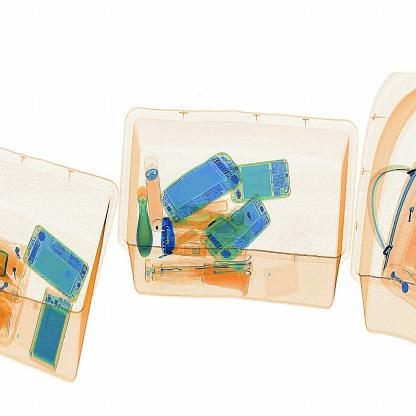scissors: (157, 211, 181, 261)
